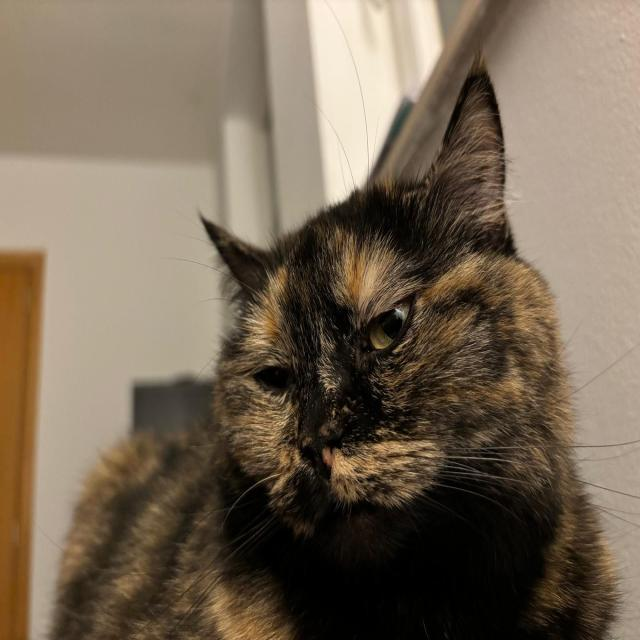authorized: (46, 20, 635, 639)
